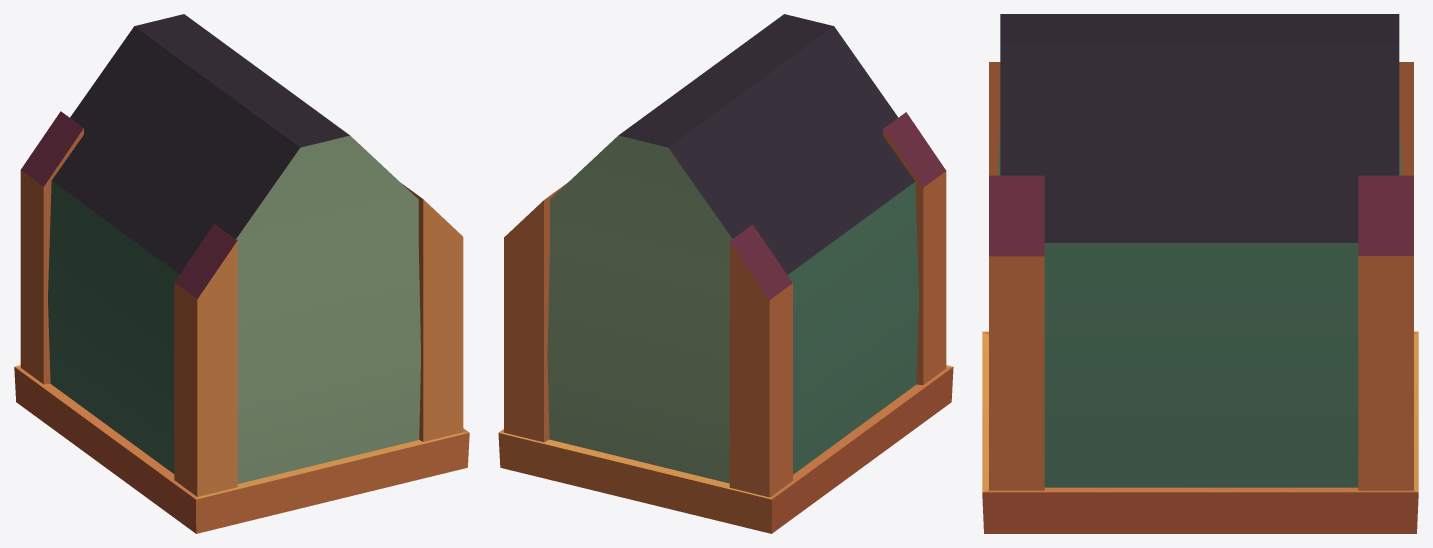
Rendered from House02_Green_Wood.glb.
The picture shows the model from 3 angles, left to right: view 1: azimuth 30°, elevation 25°; view 2: azimuth 150°, elevation 25°; view 3: azimuth 270°, elevation 25°; orthographic projection. The views are drawn at different scales.
Parts seen in each view (by area): view 1: House02_Green_Wood; view 2: House02_Green_Wood; view 3: House02_Green_Wood.
Boxes of the visible parts, x1,y1,x2,y2 form: House02_Green_Wood: (14,14,469,533); House02_Green_Wood: (498,14,953,533); House02_Green_Wood: (982,14,1418,533).
Bounding box in the file's own units: 2.04 × 2.52 × 2.34.
1 material, 1 textured.
